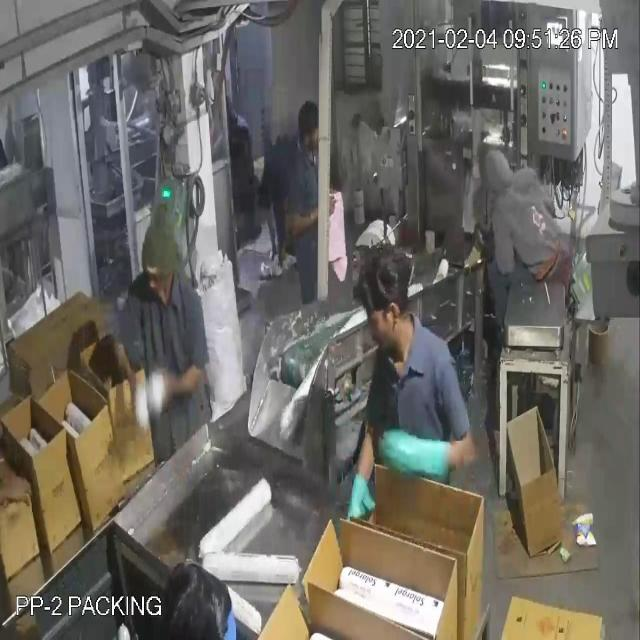No_Gloves: (38, 55, 420, 496)
